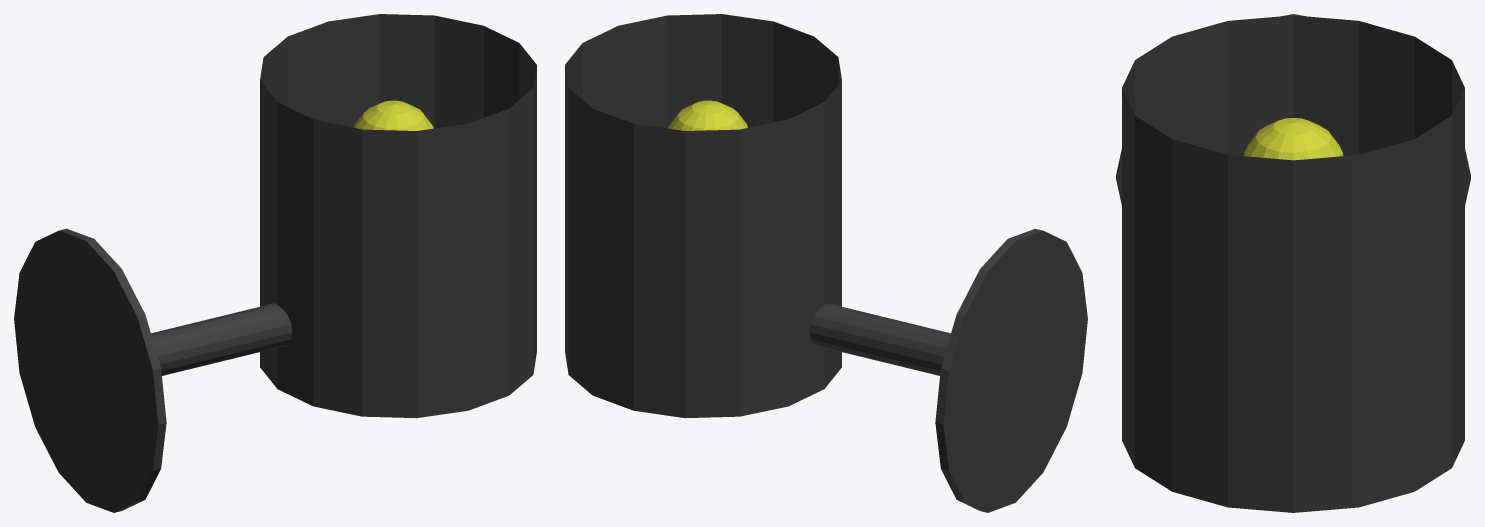
Rendered from Wall Lamp with cover.fbx.
3 views of the same model, side by side, from view 1: azimuth 30°, elevation 25°; view 2: azimuth 150°, elevation 25°; view 3: azimuth 270°, elevation 25° (orthographic). The views are drawn at different scales.
Parts seen in each view (by area): view 1: Cylinder_2, Cylinder_1, Cylinder, Sphere; view 2: Cylinder_2, Cylinder_1, Cylinder, Sphere; view 3: Cylinder_2, Sphere, Cylinder_1.
Part boxes in pixels (bbox=[...]): Cylinder_2: bbox=[260, 14, 536, 418]; Cylinder_1: bbox=[14, 228, 166, 512]; Cylinder: bbox=[151, 303, 292, 375]; Sphere: bbox=[354, 100, 433, 130]; Cylinder_2: bbox=[565, 14, 841, 418]; Cylinder_1: bbox=[935, 228, 1087, 512]; Cylinder: bbox=[809, 303, 950, 375]; Sphere: bbox=[668, 100, 747, 130]; Cylinder_2: bbox=[1122, 15, 1464, 512]; Sphere: bbox=[1243, 118, 1343, 160]; Cylinder_1: bbox=[1116, 14, 1470, 205].
Size of the model in its own units: 179 by 140 by 103.
